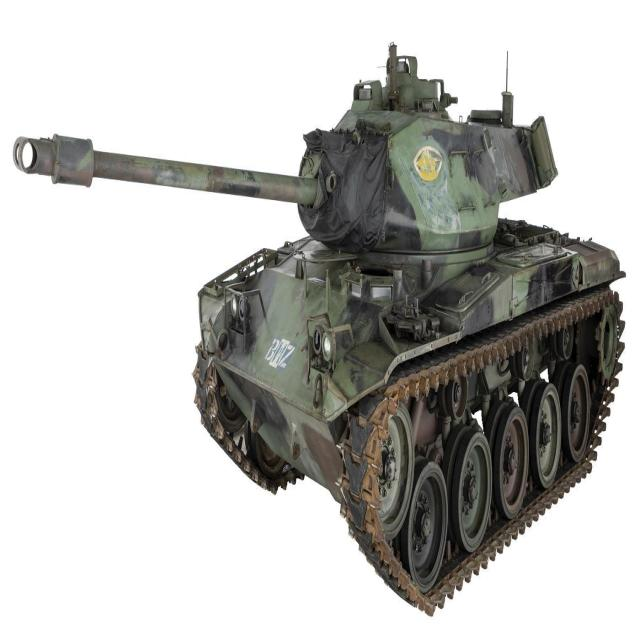Tanks: (24, 49, 624, 588)
